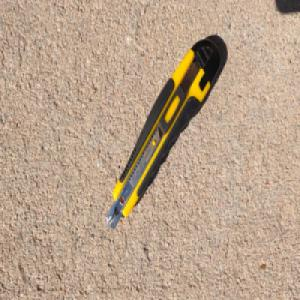Cutter: (105, 37, 222, 231)
